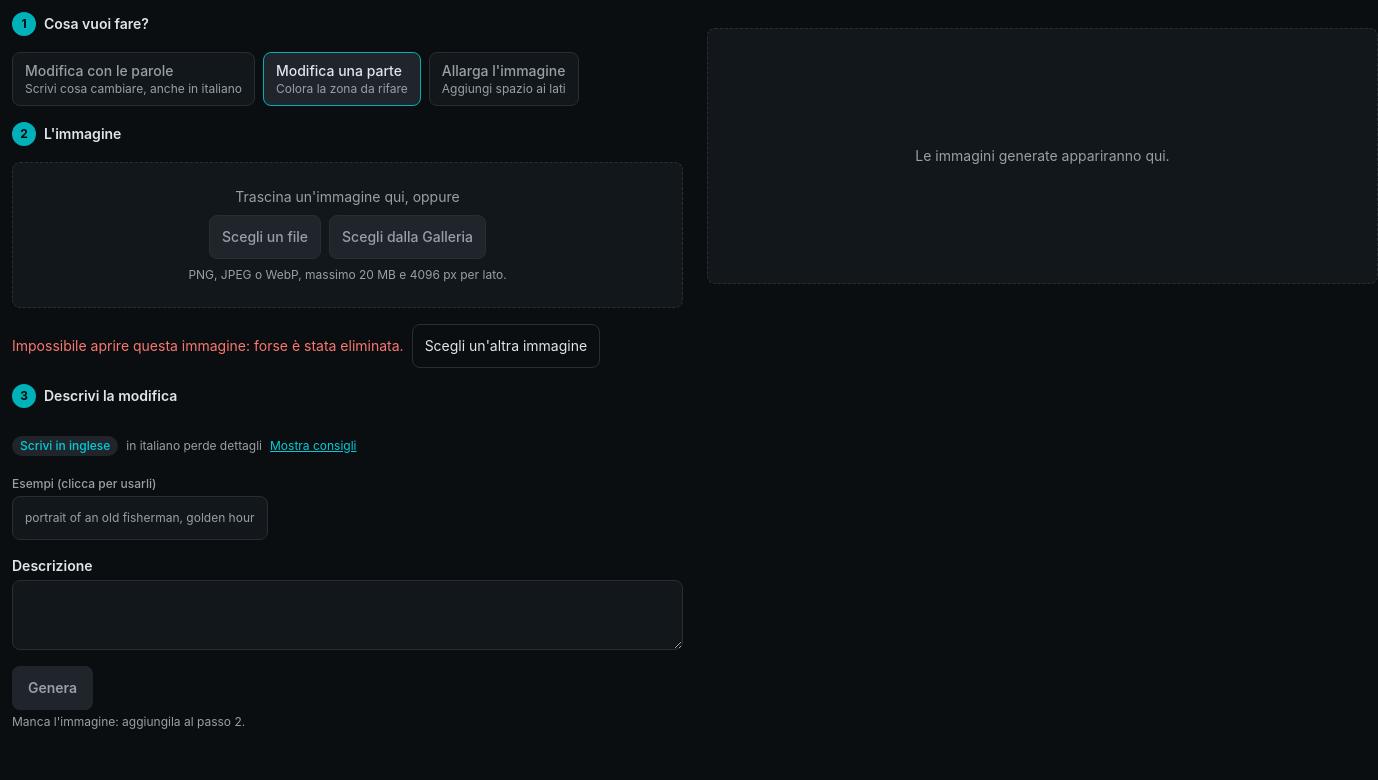
EditPage - chained word-based edits › lets the user choose another image when the linked one cannot be loaded (R13)
The image size is (1378, 780).
Check: the text "Impossibile aprire questa immagine: forse è stata eliminata." is shown, box [12, 336, 404, 356]
Click the button "Scegli un'altra immagine" at (506, 346), box [412, 324, 600, 368]
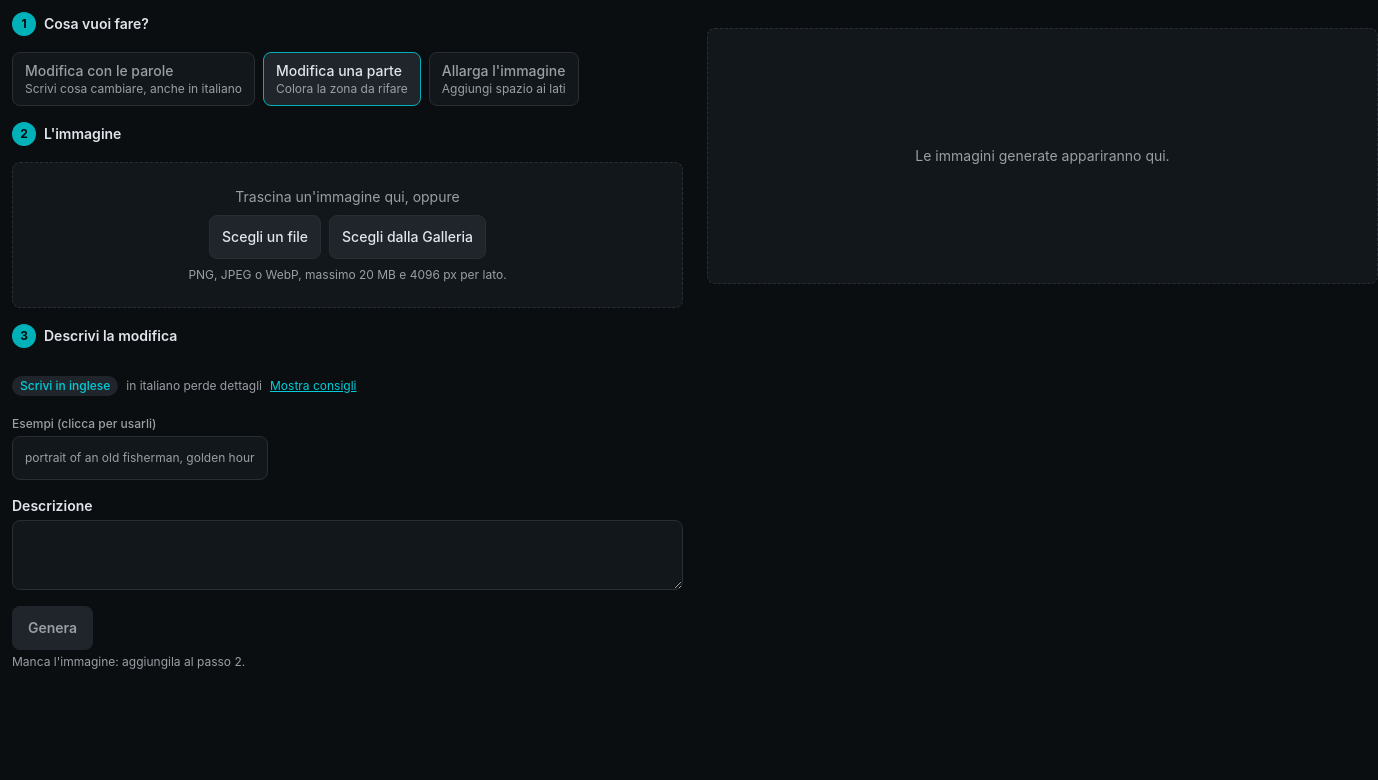
Check: the button "Scegli un file" is enabled, box [209, 215, 321, 259]
